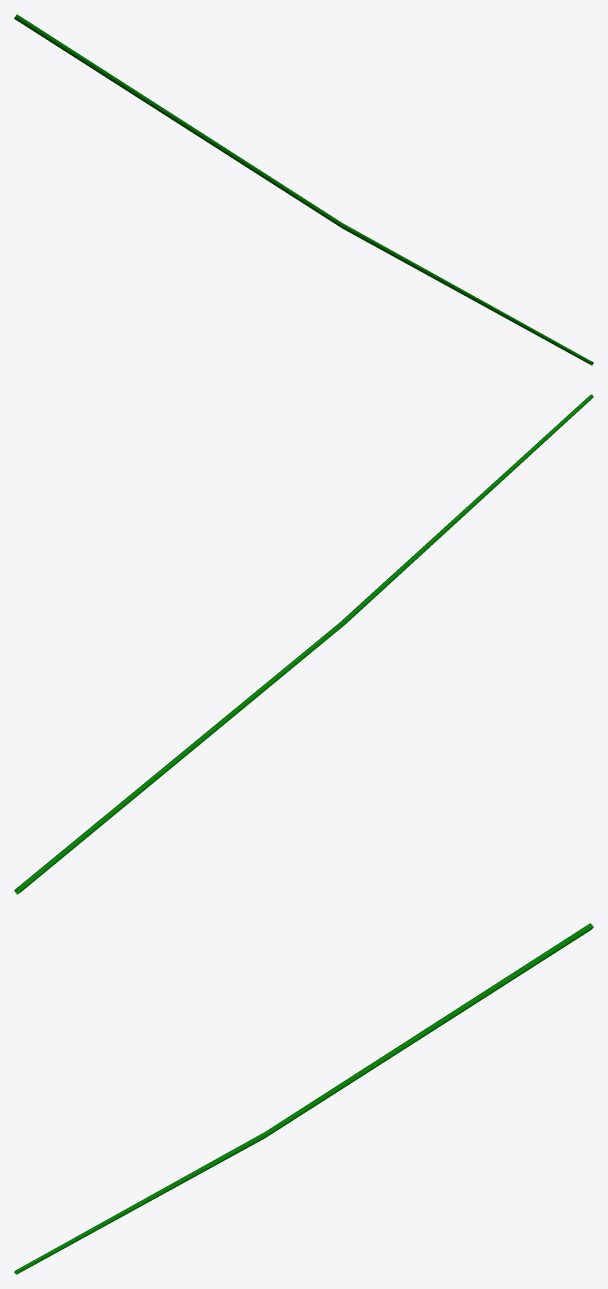
Rendered from stem#1.dae.
The picture shows the model from 3 angles, top to bottom: view 1: azimuth 30°, elevation 25°; view 2: azimuth 150°, elevation 25°; view 3: azimuth 330°, elevation 25°; orthographic projection.
Visible parts, largest first — view 1: mesh0%root%0%; view 2: mesh0%root%0%; view 3: mesh0%root%0%.
Boxes of the visible parts, x1,y1,x2,y2 form: mesh0%root%0%: (14,14,593,365); mesh0%root%0%: (14,394,593,894); mesh0%root%0%: (14,923,593,1274).
Size of the model in its own units: 0.199 by 2.31 by 29.93.
